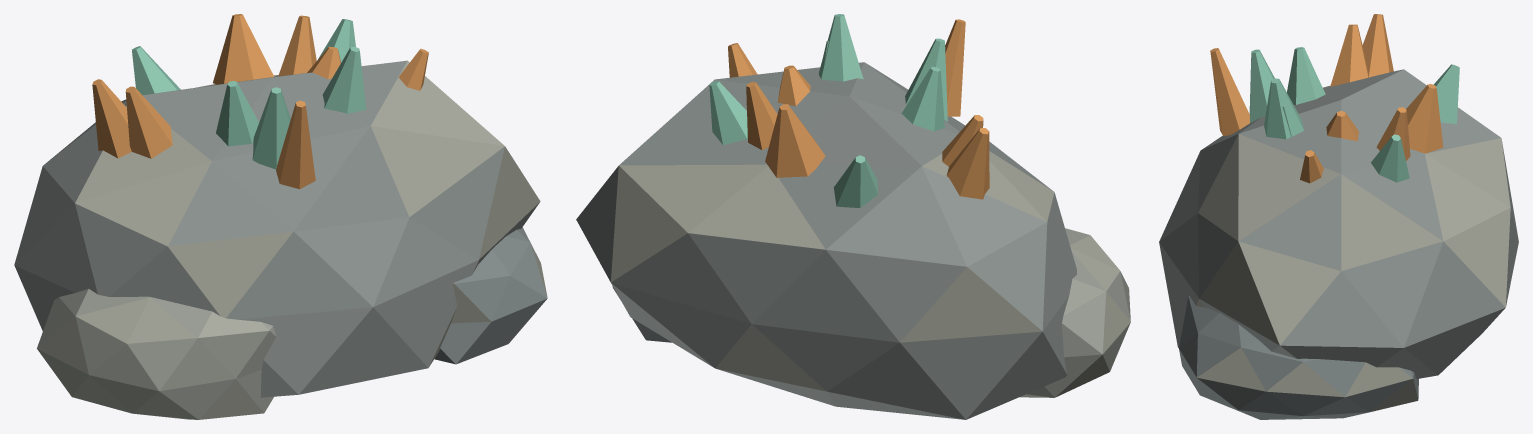
Rendered from resource_ore_copper.glb.
The picture shows the model from 3 angles, left to right: view 1: azimuth 30°, elevation 25°; view 2: azimuth 150°, elevation 25°; view 3: azimuth 270°, elevation 25°; orthographic projection. The views are drawn at different scales.
Parts seen in each view (by area): view 1: Host stone, Host stone.001, Host stone.002, Visible copper crystal.002, Visible copper crystal.006, Visible copper crystal.004, Visible copper crystal.012, Visible copper crystal.001, Visible copper crystal.011, Visible copper crystal.009, Visible copper crystal.010, Visible copper crystal.007 (+3 smaller); view 2: Host stone, Host stone.001, Visible copper crystal.002, Visible copper crystal.012, Visible copper crystal.011, Visible copper crystal.005, Visible copper crystal.009, Visible copper crystal.007, Visible copper crystal.006, Visible copper crystal.010, Visible copper crystal.001, Visible copper crystal (+2 smaller); view 3: Host stone, Host stone.002, Visible copper crystal.002, Visible copper crystal.006, Visible copper crystal.004, Visible copper crystal.009, Visible copper crystal.011, Visible copper crystal.012, Visible copper crystal.001, Visible copper crystal.005, Visible copper crystal.007, Visible copper crystal.010 (+2 smaller).
Boxes of the visible parts, x1,y1,x2,y2 form: Host stone: (14, 60, 540, 397); Host stone.001: (37, 288, 276, 419); Host stone.002: (434, 227, 547, 364); Visible copper crystal.002: (213, 14, 274, 84); Visible copper crystal.006: (276, 100, 315, 189); Visible copper crystal.004: (125, 86, 172, 158); Visible copper crystal.012: (92, 79, 131, 158); Visible copper crystal.001: (252, 87, 290, 169); Visible copper crystal.011: (322, 46, 366, 113); Visible copper crystal.009: (216, 81, 258, 146); Visible copper crystal.010: (278, 15, 316, 76); Visible copper crystal.007: (132, 46, 180, 95); Host stone: (576, 62, 1076, 419); Host stone.001: (1019, 228, 1130, 397); Visible copper crystal.002: (765, 104, 825, 177); Visible copper crystal.012: (946, 128, 989, 199); Visible copper crystal.011: (818, 14, 863, 81); Visible copper crystal.005: (709, 80, 747, 145); Visible copper crystal.009: (901, 66, 944, 131); Visible copper crystal.007: (833, 155, 877, 207); Visible copper crystal.006: (945, 19, 965, 116); Visible copper crystal.010: (746, 81, 777, 150); Visible copper crystal.001: (905, 38, 947, 121); Visible copper crystal: (777, 65, 810, 106); Host stone: (1159, 69, 1518, 378); Host stone.002: (1179, 296, 1418, 419); Visible copper crystal.002: (1406, 84, 1443, 153); Visible copper crystal.006: (1210, 48, 1249, 135); Visible copper crystal.004: (1330, 24, 1368, 86); Visible copper crystal.009: (1287, 47, 1325, 104); Visible copper crystal.011: (1264, 78, 1303, 139); Visible copper crystal.012: (1362, 14, 1393, 77); Visible copper crystal.001: (1249, 49, 1274, 123); Visible copper crystal.005: (1371, 134, 1409, 182); Visible copper crystal.007: (1433, 64, 1459, 124); Visible copper crystal.010: (1376, 107, 1410, 160).
Size of the model in its own units: 1.87 by 1.14 by 1.33.
